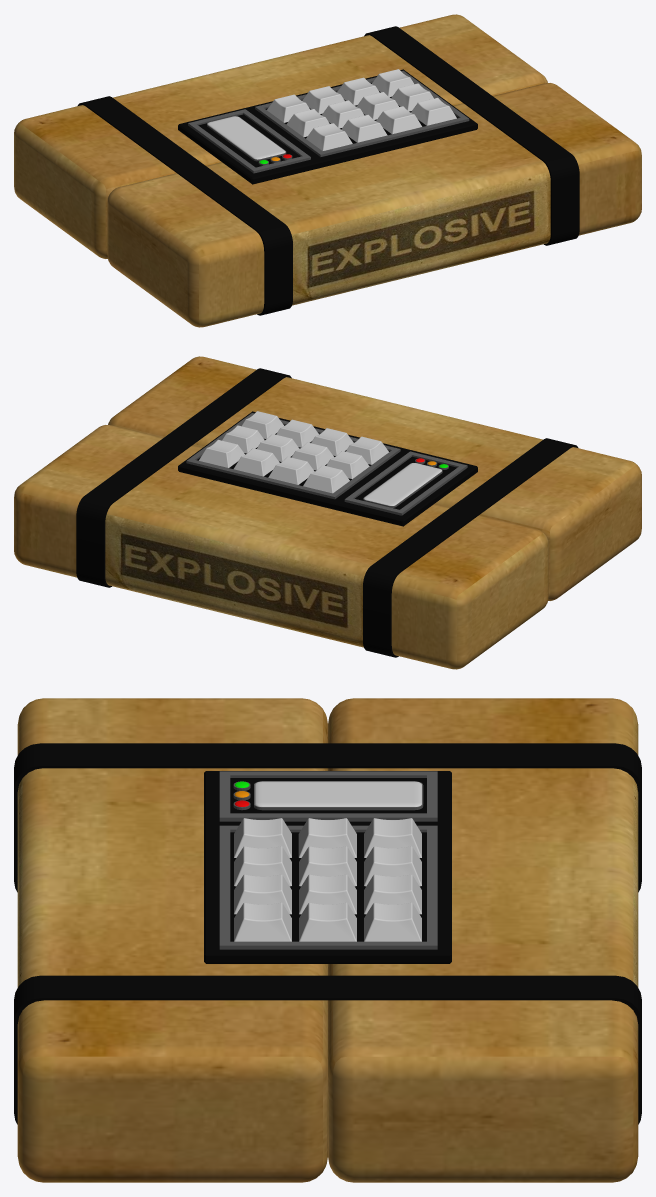
Rendered from high-endExplosiveDevice.fbx.
3 renders of one model, top to bottom at view 1: azimuth 30°, elevation 25°; view 2: azimuth 150°, elevation 25°; view 3: azimuth 270°, elevation 25°, orthographic. The views are drawn at different scales.
Parts seen in each view (by area): view 1: high_endExplosiveDevice1; view 2: high_endExplosiveDevice1; view 3: high_endExplosiveDevice1.
Boxes of the visible parts, x1,y1,x2,y2 form: high_endExplosiveDevice1: (14, 14, 641, 327); high_endExplosiveDevice1: (14, 356, 641, 669); high_endExplosiveDevice1: (14, 698, 641, 1182).
Bounding box in the file's own units: 0.35 × 0.0753 × 0.2531.
